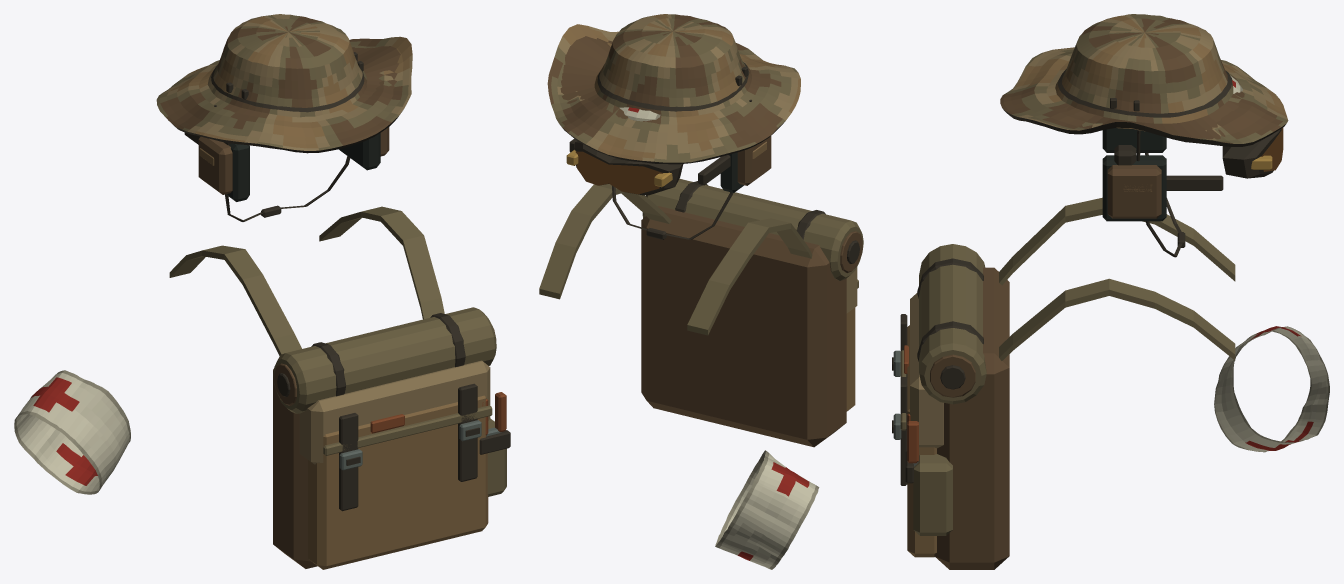
File: field-kit.glb
The picture shows the model from 3 angles, left to right: view 1: azimuth 30°, elevation 25°; view 2: azimuth 150°, elevation 25°; view 3: azimuth 270°, elevation 25°; orthographic projection. The views are drawn at different scales.
Parts seen in each view (by area): view 1: EngineerPack, ScoutBoonie, MedicArmband, EngineerProtection; view 2: EngineerPack, ScoutBoonie, MedicArmband, EngineerProtection; view 3: EngineerPack, ScoutBoonie, EngineerProtection, MedicArmband.
Part boxes in pixels (left/top/right/bottom): EngineerPack: left=169, top=206, right=510, bottom=569; ScoutBoonie: left=156, top=14, right=412, bottom=221; MedicArmband: left=14, top=370, right=130, bottom=494; EngineerProtection: left=184, top=127, right=389, bottom=201; EngineerPack: left=539, top=178, right=863, bottom=447; ScoutBoonie: left=547, top=14, right=800, bottom=239; MedicArmband: left=715, top=450, right=819, bottom=569; EngineerProtection: left=566, top=136, right=771, bottom=195; EngineerPack: left=892, top=197, right=1235, bottom=569; ScoutBoonie: left=1000, top=14, right=1288, bottom=257; EngineerProtection: left=1102, top=127, right=1283, bottom=221; MedicArmband: left=1214, top=326, right=1329, bottom=452.
Size of the model in its own units: 0.4609 by 0.6396 by 0.5059.
